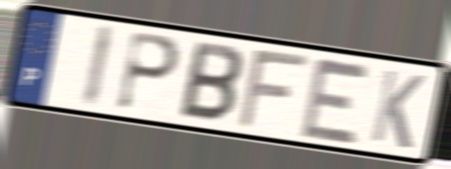B: (175, 38, 246, 126)
E: (297, 53, 374, 148)
F: (234, 48, 314, 131)
I: (79, 22, 118, 110)
K: (368, 66, 428, 153)
P: (113, 29, 183, 114)
